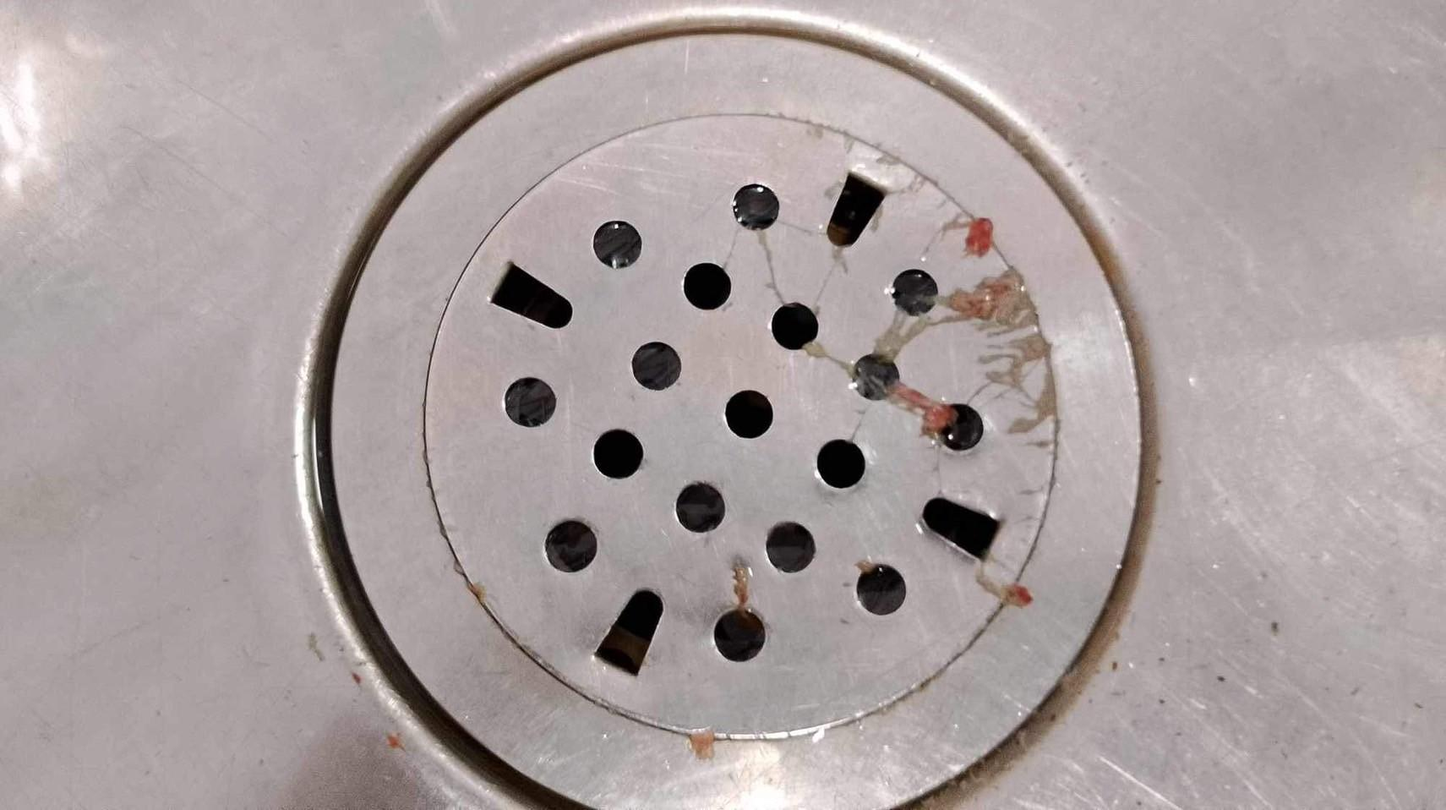General: (4, 3, 1438, 806), (439, 145, 1058, 730)
Sharps: (769, 300, 985, 452)
